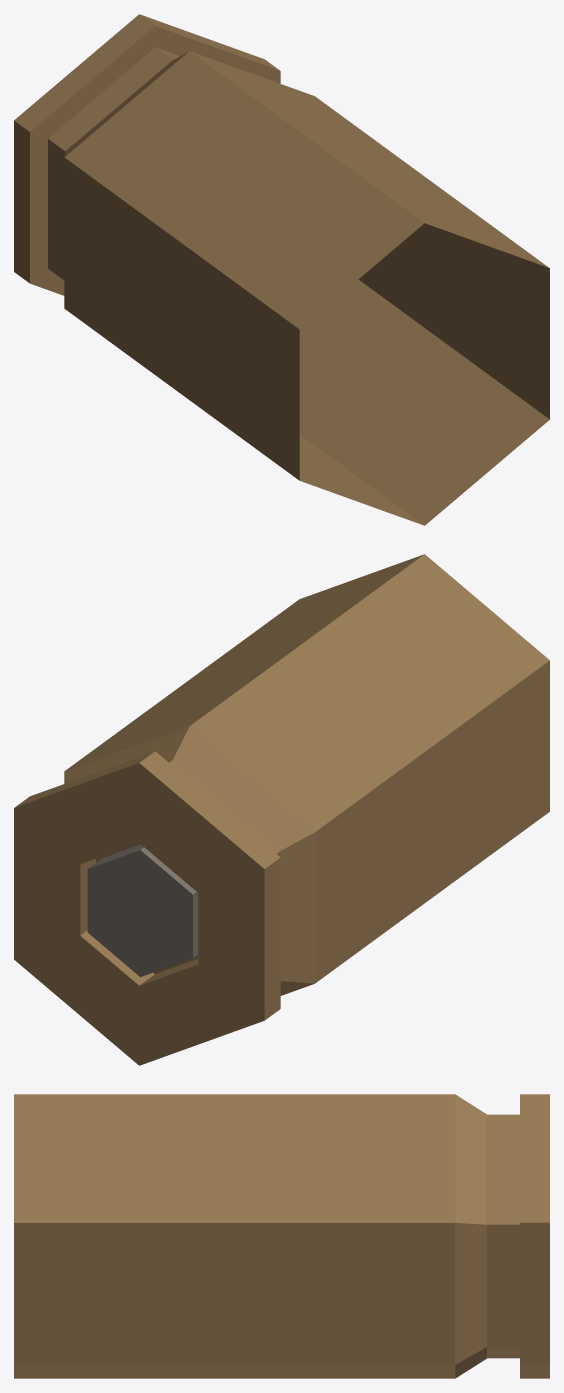
The model's file is SM_APC9_Casing.fbx.
3 renders of one model, top to bottom at view 1: azimuth 30°, elevation 25°; view 2: azimuth 150°, elevation 25°; view 3: azimuth 270°, elevation 25°, orthographic. The views are drawn at different scales.
Visible parts, largest first — view 1: SM_APC9_Casing; view 2: SM_APC9_Casing; view 3: SM_APC9_Casing.
Part boxes in pixels (box(x1,y1,x2,y2)): SM_APC9_Casing: box(14, 14, 549, 525); SM_APC9_Casing: box(14, 554, 549, 1065); SM_APC9_Casing: box(14, 1094, 549, 1378).
Size of the model in its own units: 0.9414 by 1.09 by 1.86.
